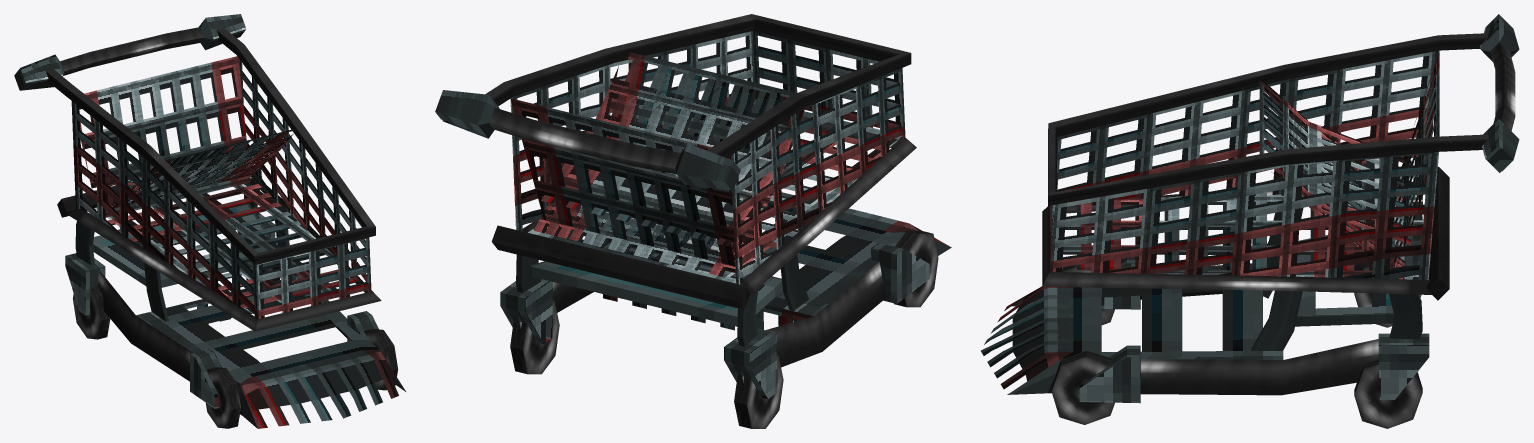
File: Shopping_cart.fbx
3 views of the same model, side by side, from view 1: azimuth 30°, elevation 25°; view 2: azimuth 150°, elevation 25°; view 3: azimuth 270°, elevation 25° (orthographic). The views are drawn at different scales.
Parts seen in each view (by area): view 1: Shopping_cart; view 2: Shopping_cart; view 3: Shopping_cart.
Part boxes in pixels (x1,y1,x2,y2): Shopping_cart: (14, 14, 405, 428); Shopping_cart: (435, 14, 951, 428); Shopping_cart: (981, 14, 1519, 428).
Size of the model in its own units: 114 by 122 by 198.
